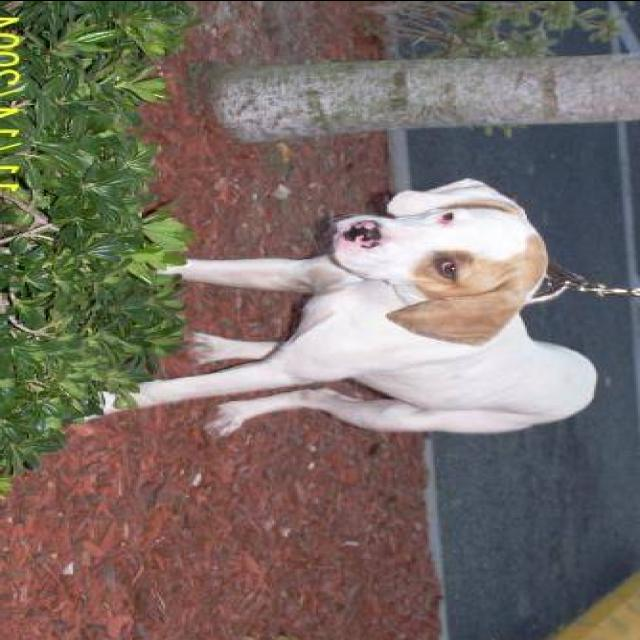dog: (88, 162, 612, 458)
